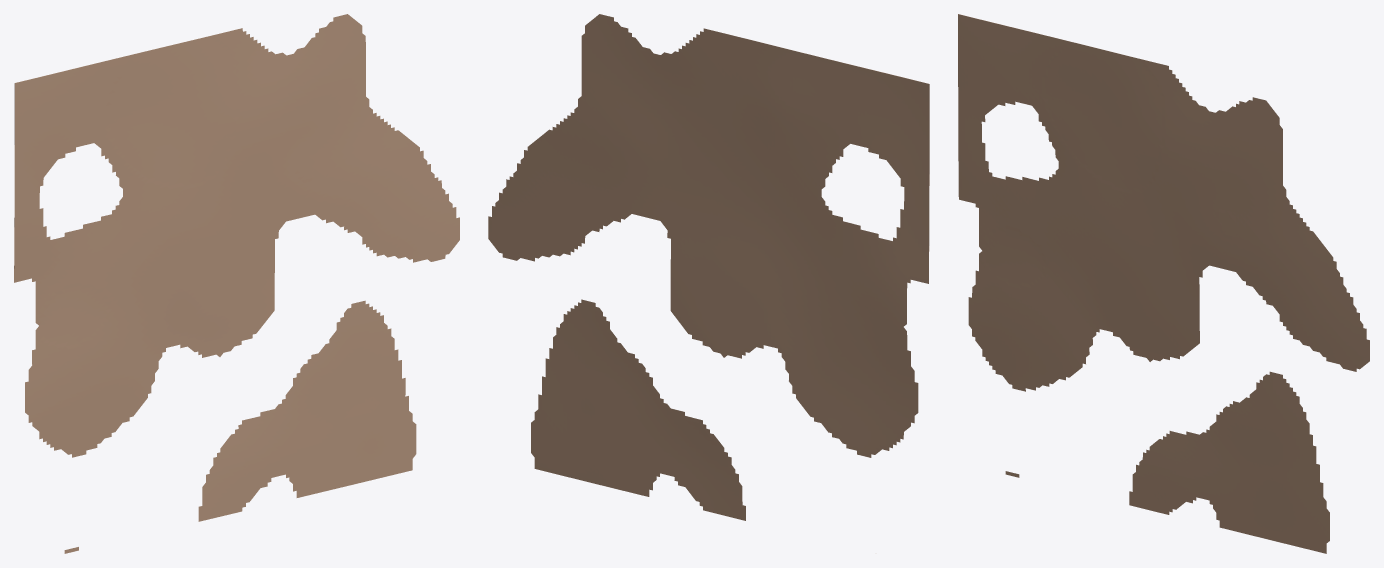
The model's file is L04_shell.glb.
The picture shows the model from 3 angles, left to right: view 1: azimuth 30°, elevation 25°; view 2: azimuth 150°, elevation 25°; view 3: azimuth 330°, elevation 25°; orthographic projection. The views are drawn at different scales.
Parts seen in each view (by area): view 1: world; view 2: world; view 3: world.
Boxes of the visible parts, box(x1,y1,x2,y2) form: world: box(14, 14, 459, 553); world: box(488, 14, 929, 520); world: box(958, 14, 1369, 553).
Bounding box in the file's own units: 12300 × 12800 × 104.
